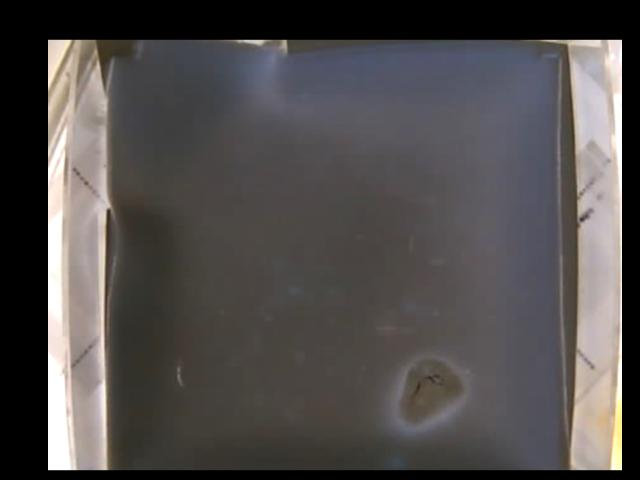Pebble: (396, 355, 463, 426)
